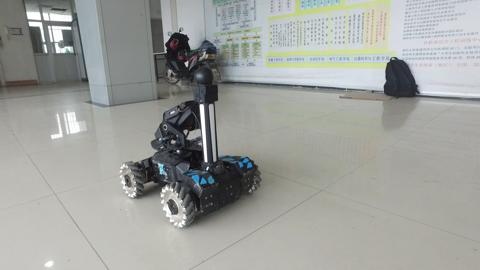bag: (376, 53, 428, 105)
chariot: (113, 63, 271, 233)
